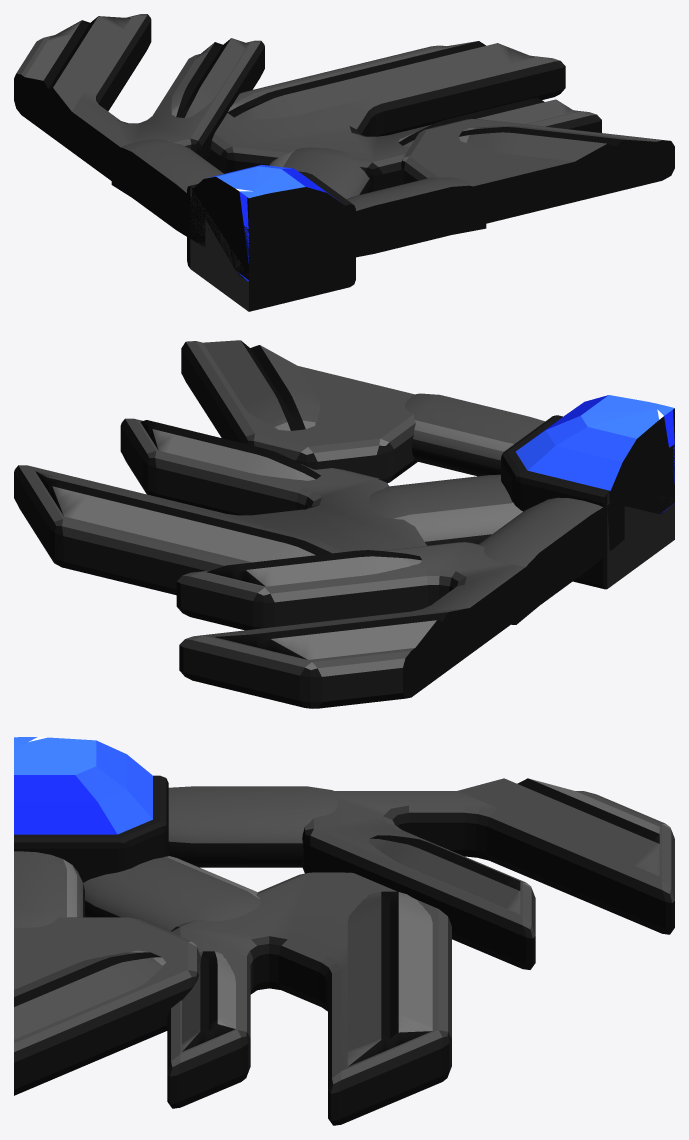
The model's file is dark_saw_167.glb.
3 renders of one model, top to bottom at view 1: azimuth 30°, elevation 25°; view 2: azimuth 150°, elevation 25°; view 3: azimuth 270°, elevation 25°, orthographic. The views are drawn at different scales.
Parts seen in each view (by area): view 1: dark_saw_167_under0_plate, dark_saw_167_arm1_plate, dark_saw_167_arm0_plate, dark_saw_167_gem_bezel, dark_saw_167_gem, dark_saw_167_under0_ridge0, dark_saw_167_arm1_rod, dark_saw_167_arm0_rod, dark_saw_167_arm0_ridge0, dark_saw_167_arm1_ridge0, dark_saw_167_arm0_ridge1, dark_saw_167_under0_rod (+1 smaller); view 2: dark_saw_167_arm0_plate, dark_saw_167_under0_plate, dark_saw_167_arm1_plate, dark_saw_167_gem, dark_saw_167_under0_ridge0, dark_saw_167_arm0_rod, dark_saw_167_gem_bezel, dark_saw_167_arm1_rod, dark_saw_167_under0_rod, dark_saw_167_arm0_ridge0, dark_saw_167_arm1_ridge0, dark_saw_167_arm0_ridge1 (+1 smaller); view 3: dark_saw_167_under0_plate, dark_saw_167_arm0_plate, dark_saw_167_arm1_plate, dark_saw_167_under0_ridge0, dark_saw_167_gem, dark_saw_167_arm0_rod, dark_saw_167_under0_rod, dark_saw_167_arm0_ridge0, dark_saw_167_arm1_ridge0, dark_saw_167_gem_bezel, dark_saw_167_arm1_rod, dark_saw_167_arm0_ridge1 (+1 smaller).
Part boxes in pixels (bbox=[...]): dark_saw_167_under0_plate: bbox=[207, 45, 601, 192]; dark_saw_167_arm1_plate: bbox=[401, 119, 674, 230]; dark_saw_167_arm0_plate: bbox=[14, 14, 264, 193]; dark_saw_167_gem_bezel: bbox=[187, 171, 355, 311]; dark_saw_167_gem: bbox=[192, 164, 347, 281]; dark_saw_167_under0_ridge0: bbox=[227, 41, 534, 119]; dark_saw_167_arm1_rod: bbox=[324, 177, 486, 262]; dark_saw_167_arm0_rod: bbox=[111, 139, 223, 247]; dark_saw_167_arm0_ridge0: bbox=[20, 16, 130, 121]; dark_saw_167_arm1_ridge0: bbox=[459, 126, 664, 170]; dark_saw_167_arm0_ridge1: bbox=[171, 38, 248, 117]; dark_saw_167_under0_rod: bbox=[269, 147, 371, 198]; dark_saw_167_arm0_plate: bbox=[176, 542, 540, 708]; dark_saw_167_under0_plate: bbox=[14, 418, 426, 595]; dark_saw_167_arm1_plate: bbox=[181, 341, 417, 483]; dark_saw_167_gem: bbox=[515, 395, 674, 514]; dark_saw_167_under0_ridge0: bbox=[35, 471, 341, 562]; dark_saw_167_arm0_rod: bbox=[478, 495, 624, 624]; dark_saw_167_gem_bezel: bbox=[501, 415, 674, 589]; dark_saw_167_arm1_rod: bbox=[405, 393, 544, 476]; dark_saw_167_under0_rod: bbox=[369, 474, 522, 545]; dark_saw_167_arm0_ridge0: bbox=[215, 607, 474, 659]; dark_saw_167_arm1_ridge0: bbox=[203, 340, 320, 430]; dark_saw_167_arm0_ridge1: bbox=[206, 550, 422, 586]; dark_saw_167_under0_plate: bbox=[167, 872, 451, 1125]; dark_saw_167_arm0_plate: bbox=[302, 791, 674, 969]; dark_saw_167_arm1_plate: bbox=[14, 917, 200, 1095]; dark_saw_167_under0_ridge0: bbox=[347, 891, 432, 1066]; dark_saw_167_gem: bbox=[14, 737, 152, 834]; dark_saw_167_arm0_rod: bbox=[168, 786, 338, 867]; dark_saw_167_under0_rod: bbox=[83, 856, 260, 932]; dark_saw_167_arm0_ridge0: bbox=[457, 778, 659, 876]; dark_saw_167_arm1_ridge0: bbox=[14, 950, 165, 1039]; dark_saw_167_gem_bezel: bbox=[14, 775, 168, 882]; dark_saw_167_arm1_rod: bbox=[14, 851, 84, 928]; dark_saw_167_arm0_ridge1: bbox=[369, 835, 520, 914].
Size of the model in its own units: 22.97 by 5.66 by 23.7.
